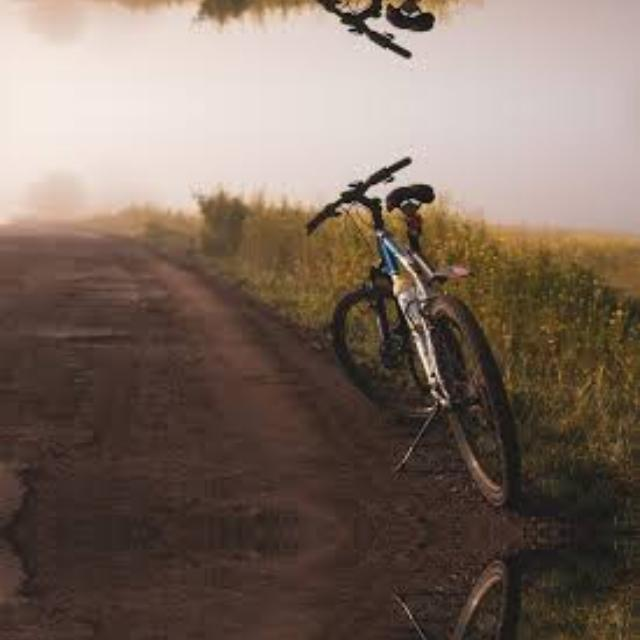obstacle: (302, 142, 564, 506), (301, 559, 564, 640), (301, 0, 564, 72)
